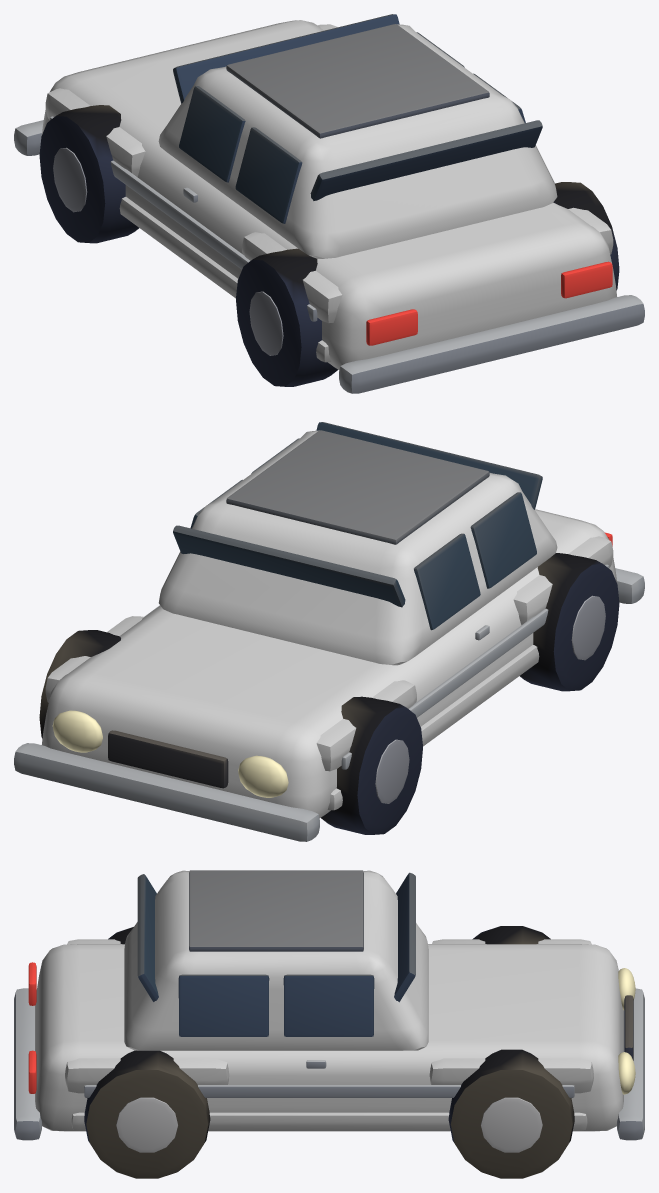
The model's file is CarSedan.fbx.
The picture shows the model from 3 angles, top to bottom: view 1: azimuth 30°, elevation 25°; view 2: azimuth 150°, elevation 25°; view 3: azimuth 270°, elevation 25°; orthographic projection. The views are drawn at different scales.
Visible parts, largest first — view 1: SM_Vehicle_Sedan_Body, SM_Vehicle_Sedan_Trim, SM_Vehicle_Sedan_Wheels, SM_Vehicle_Sedan_Glass, SM_Vehicle_Sedan_Lights; view 2: SM_Vehicle_Sedan_Body, SM_Vehicle_Sedan_Trim, SM_Vehicle_Sedan_Wheels, SM_Vehicle_Sedan_Glass, SM_Vehicle_Sedan_Lights; view 3: SM_Vehicle_Sedan_Body, SM_Vehicle_Sedan_Wheels, SM_Vehicle_Sedan_Trim, SM_Vehicle_Sedan_Glass, SM_Vehicle_Sedan_Lights.
Part boxes in pixels (x1,y1,x2,y2): SM_Vehicle_Sedan_Body: (41, 20, 616, 369); SM_Vehicle_Sedan_Trim: (14, 24, 644, 393); SM_Vehicle_Sedan_Wheels: (39, 105, 619, 386); SM_Vehicle_Sedan_Glass: (173, 14, 542, 223); SM_Vehicle_Sedan_Lights: (366, 261, 612, 345); SM_Vehicle_Sedan_Body: (42, 430, 617, 817); SM_Vehicle_Sedan_Trim: (14, 430, 644, 841); SM_Vehicle_Sedan_Wheels: (39, 553, 619, 834); SM_Vehicle_Sedan_Glass: (173, 422, 542, 630); SM_Vehicle_Sedan_Lights: (52, 532, 612, 797); SM_Vehicle_Sedan_Body: (35, 870, 623, 1131); SM_Vehicle_Sedan_Wheels: (84, 926, 574, 1178); SM_Vehicle_Sedan_Trim: (14, 870, 644, 1140); SM_Vehicle_Sedan_Glass: (137, 872, 415, 1036); SM_Vehicle_Sedan_Lights: (28, 962, 635, 1094).
Bounding box in the file's own units: 5.26 × 3.34 × 9.52.
